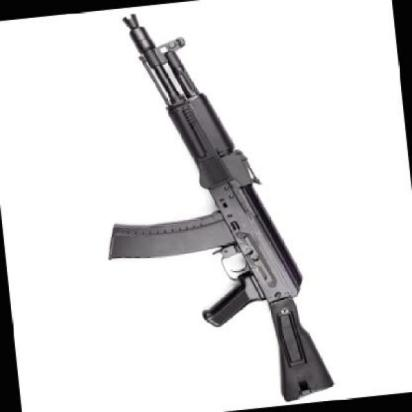Gun: (66, 0, 345, 412)
